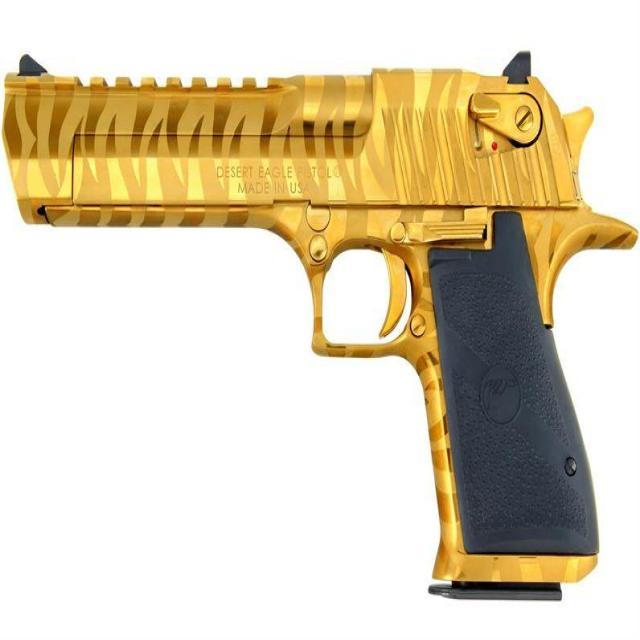gun: (1, 52, 639, 600)
